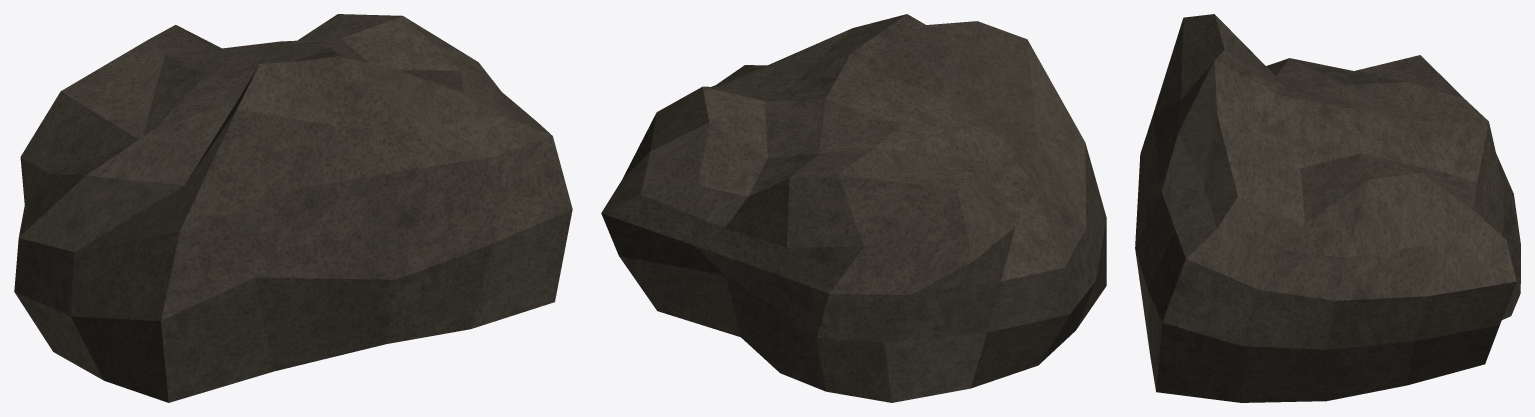
The model's file is Pedra_1_Base.fbx.
3 views of the same model, side by side, from view 1: azimuth 30°, elevation 25°; view 2: azimuth 150°, elevation 25°; view 3: azimuth 270°, elevation 25° (orthographic). The views are drawn at different scales.
Parts seen in each view (by area): view 1: Pedra_1; view 2: Pedra_1; view 3: Pedra_1.
Part boxes in pixels (bbox=[...]): Pedra_1: bbox=[14, 14, 572, 402]; Pedra_1: bbox=[601, 14, 1106, 402]; Pedra_1: bbox=[1135, 14, 1520, 402].
Bounding box in the file's own units: 135 × 82.07 × 101.
1 material, 1 textured.
